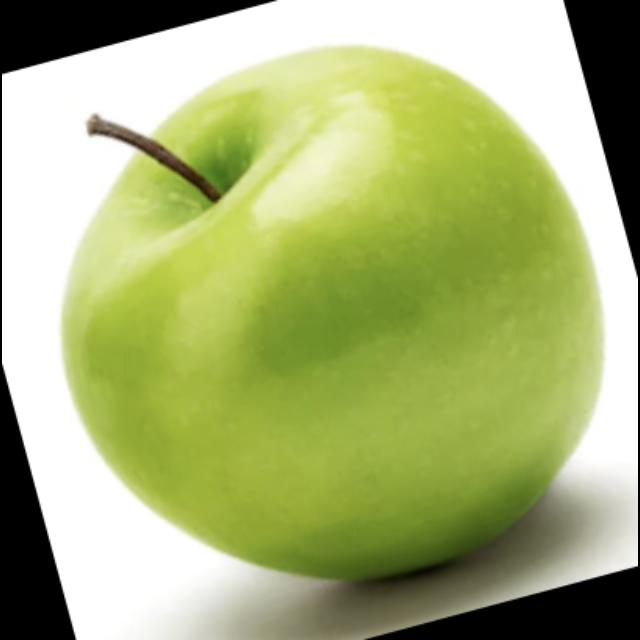Apel Segar: (56, 34, 616, 596)
